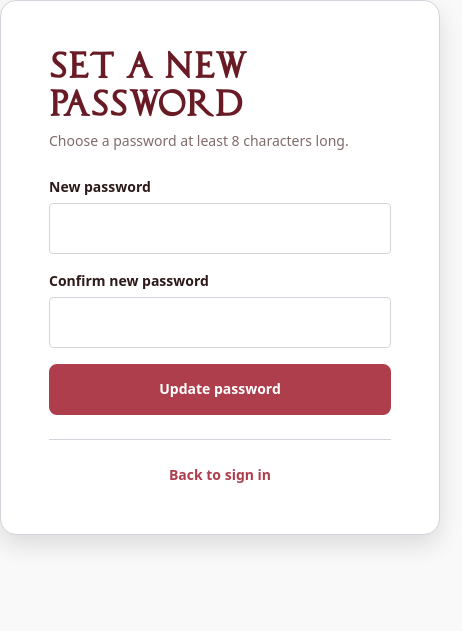
Test: ResetPasswordPage — submission › shows an API error when resetPassword fails
In the password field labelled "New password": coordinates (220, 228) [49,203,391,254], type "NewPassword1"
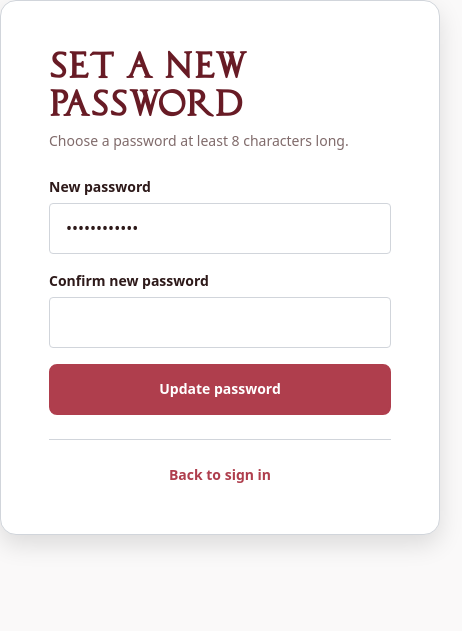
In the password field labelled "Confirm new password": coordinates (220, 322) [49,296,391,348], type "NewPassword1"
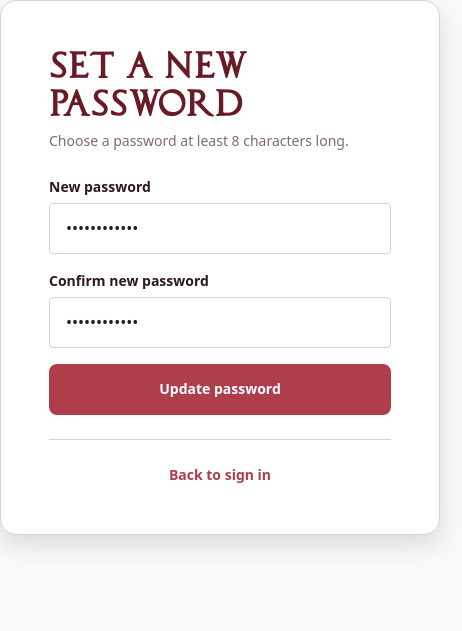
Click the button "Update password": coordinates (220, 389) [49,364,391,414]
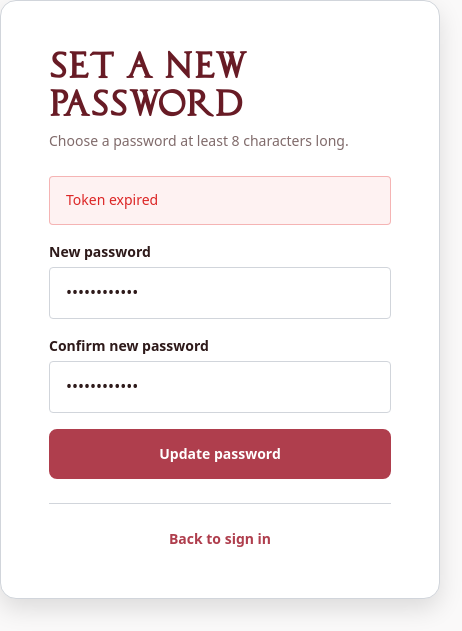
Result: the message reads "Token expired" at [66,190,158,209]
